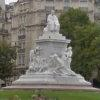Statue: (30, 5, 77, 77)
